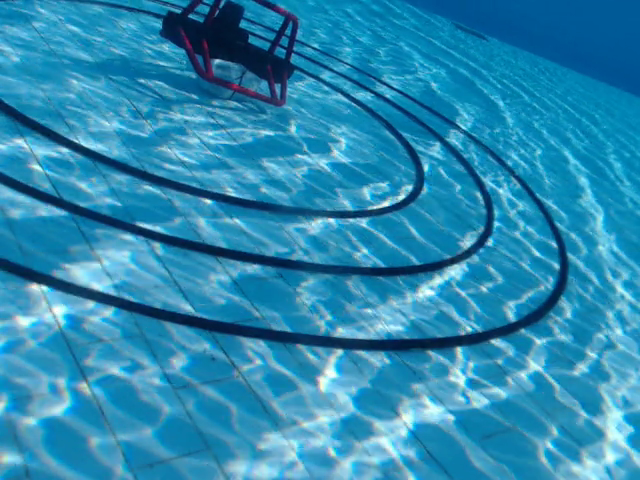submarine: (157, 1, 300, 111)
